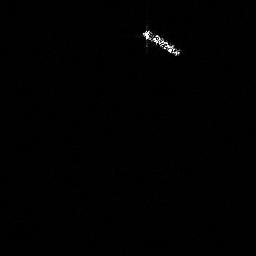ship: (140, 26, 184, 58)
